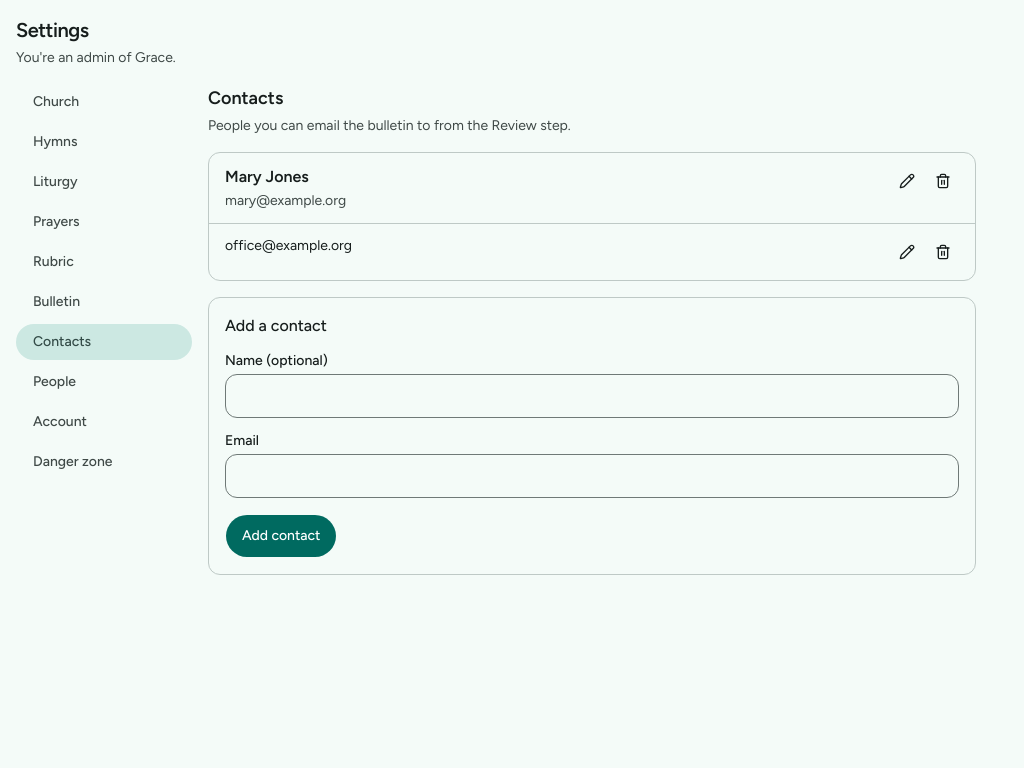
Test: Settings → Contacts (slice 5b-1) › lets an admin edit a contact: only the changed field is sent and the row shows the answer
The width and height of the screenshot is (1024, 768).
Click the button named "Edit Mary Jones" at [907, 181], box x1=891 y1=165 x2=923 y2=197
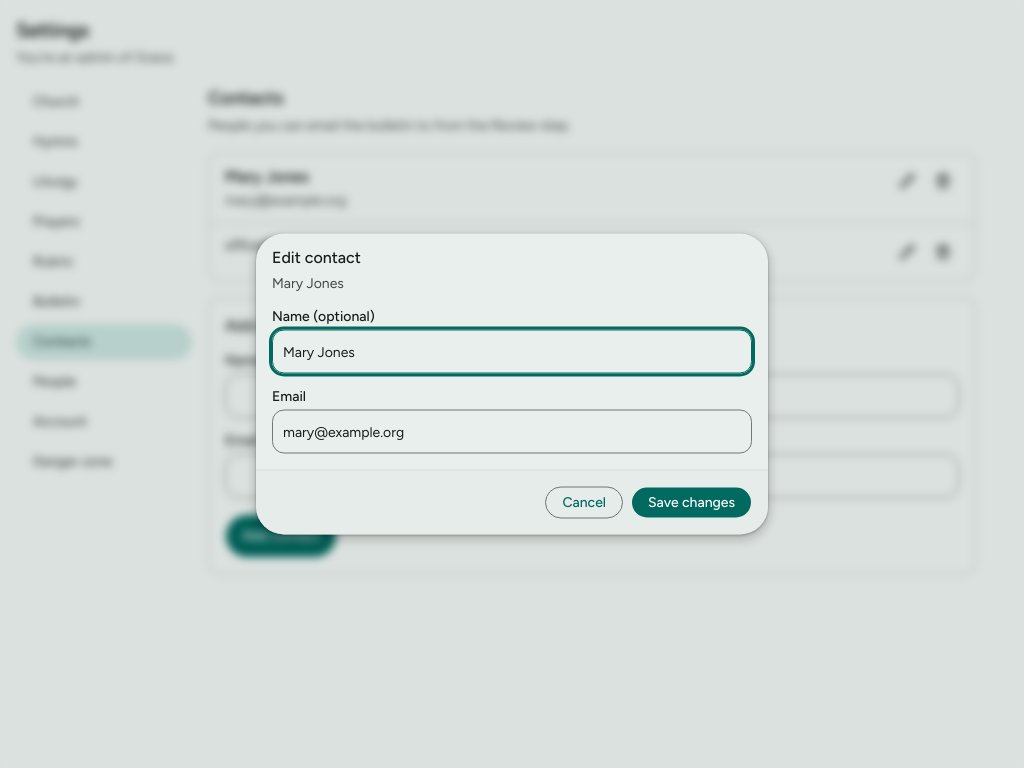
Replace the text in the field labelled "Name (optional)" with "Mary Smith" at [512, 352], box x1=272 y1=330 x2=752 y2=374
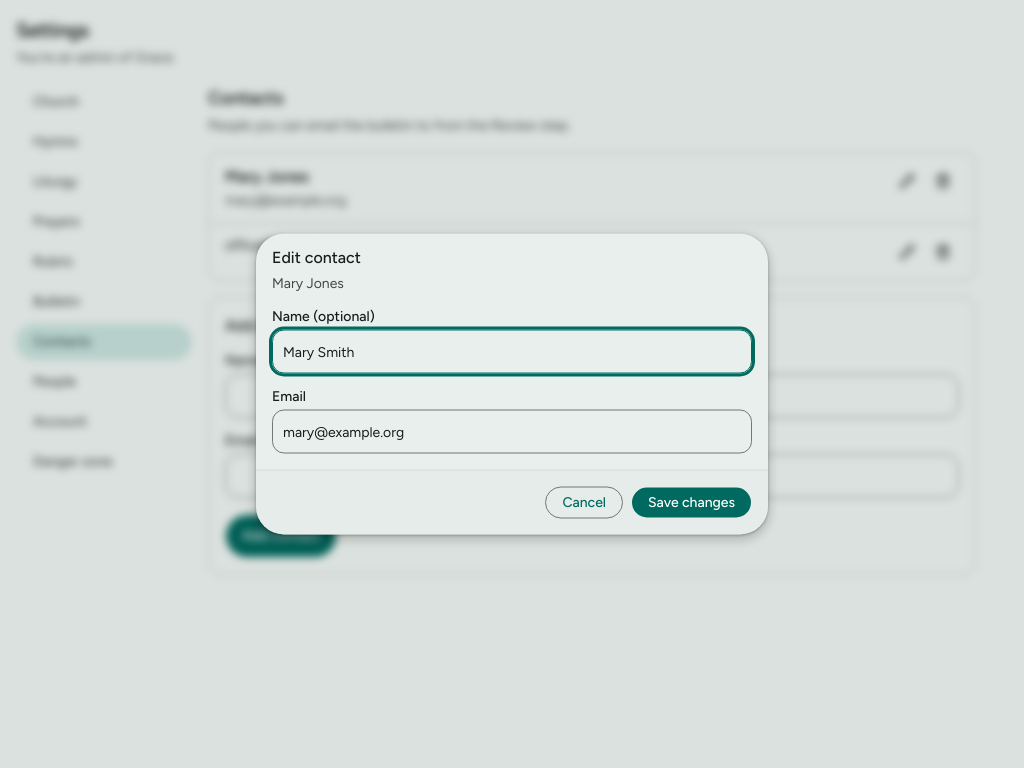
Click the button "Save changes" at [692, 502], box x1=631 y1=486 x2=752 y2=518
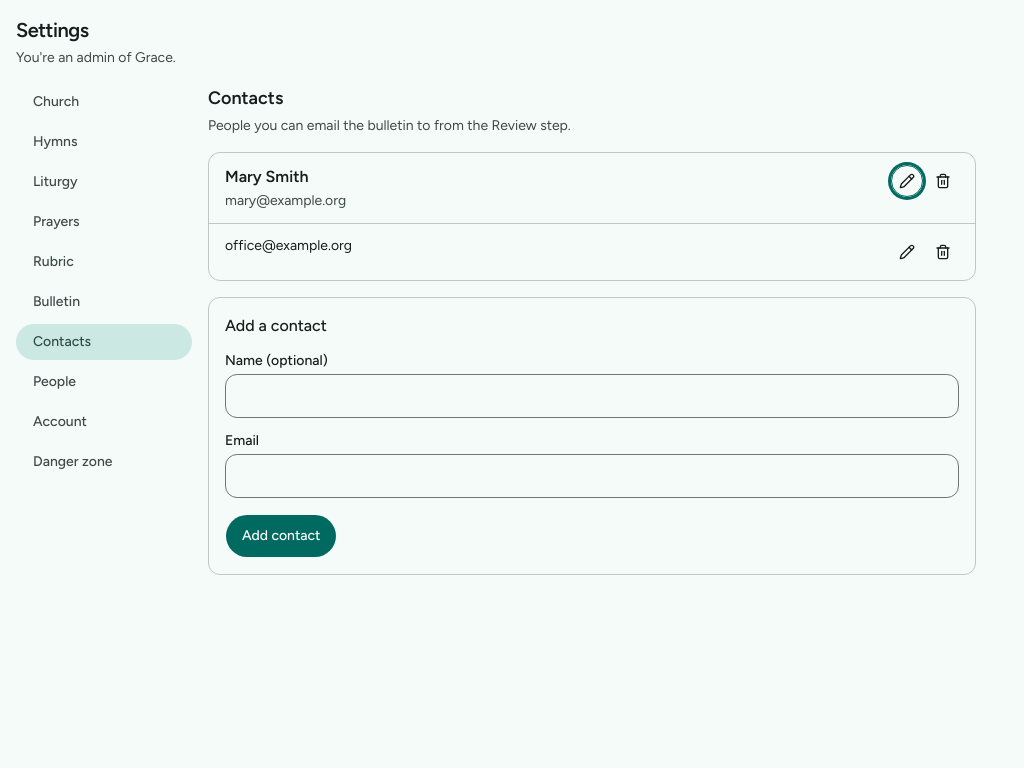
Check: the dialog is gone
Check: the list item "Mary Smith mary@example.org" is shown, box x1=209 y1=153 x2=975 y2=224
